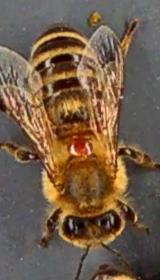varroa_mite: (68, 136, 93, 162)
